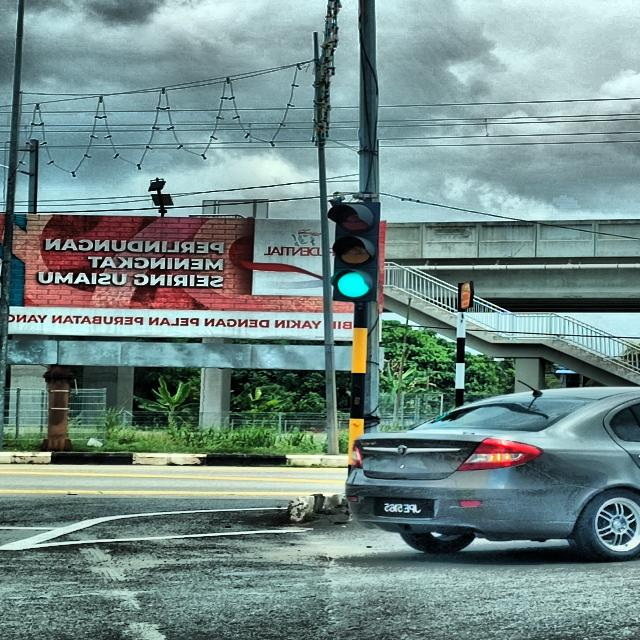green: (325, 202, 382, 299)
